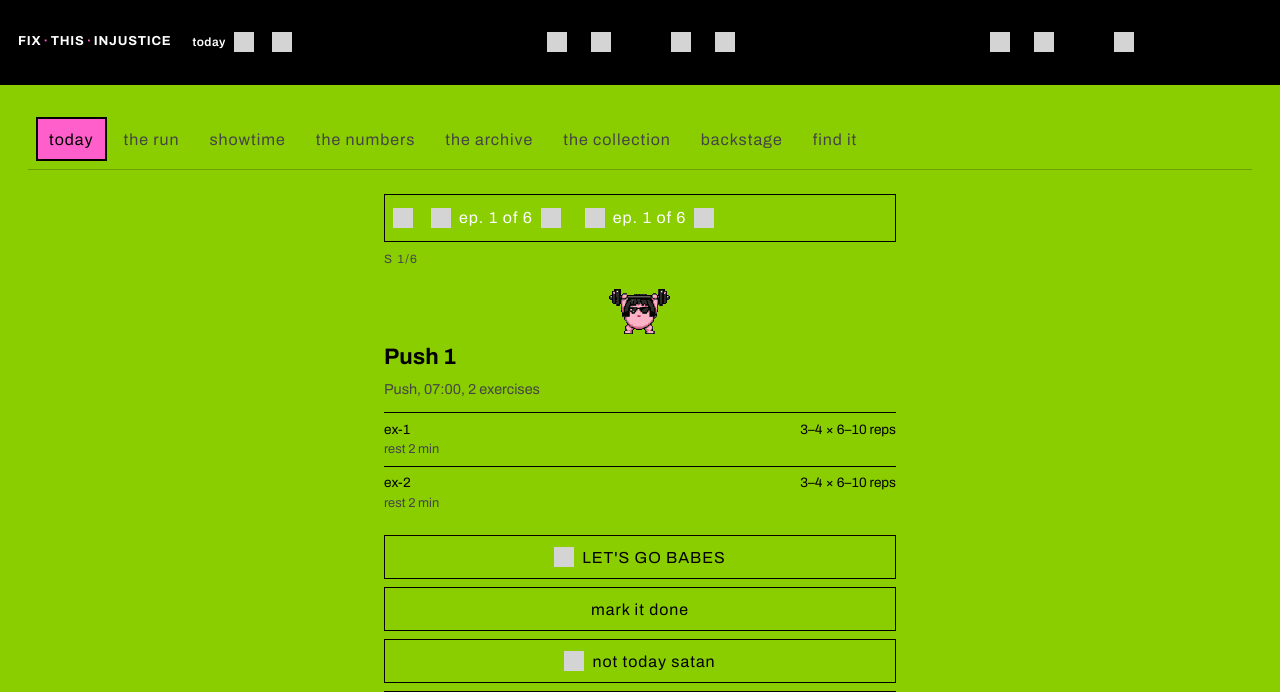
Test: spotlight palette › opens from the nav button, with the query box focused, and closes on Escape
Click the button "find it": (835, 139) x1=800 y1=117 x2=870 y2=161
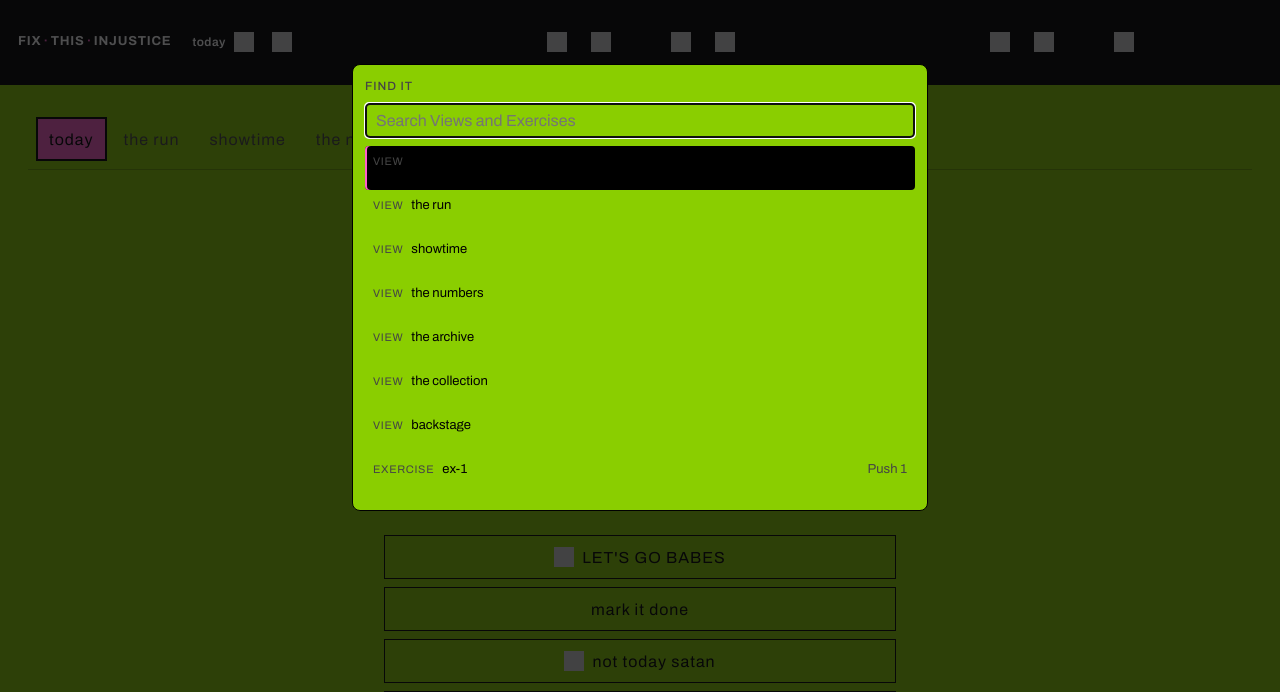
Press Escape in the dropdown, box x1=365 y1=103 x2=915 y2=138
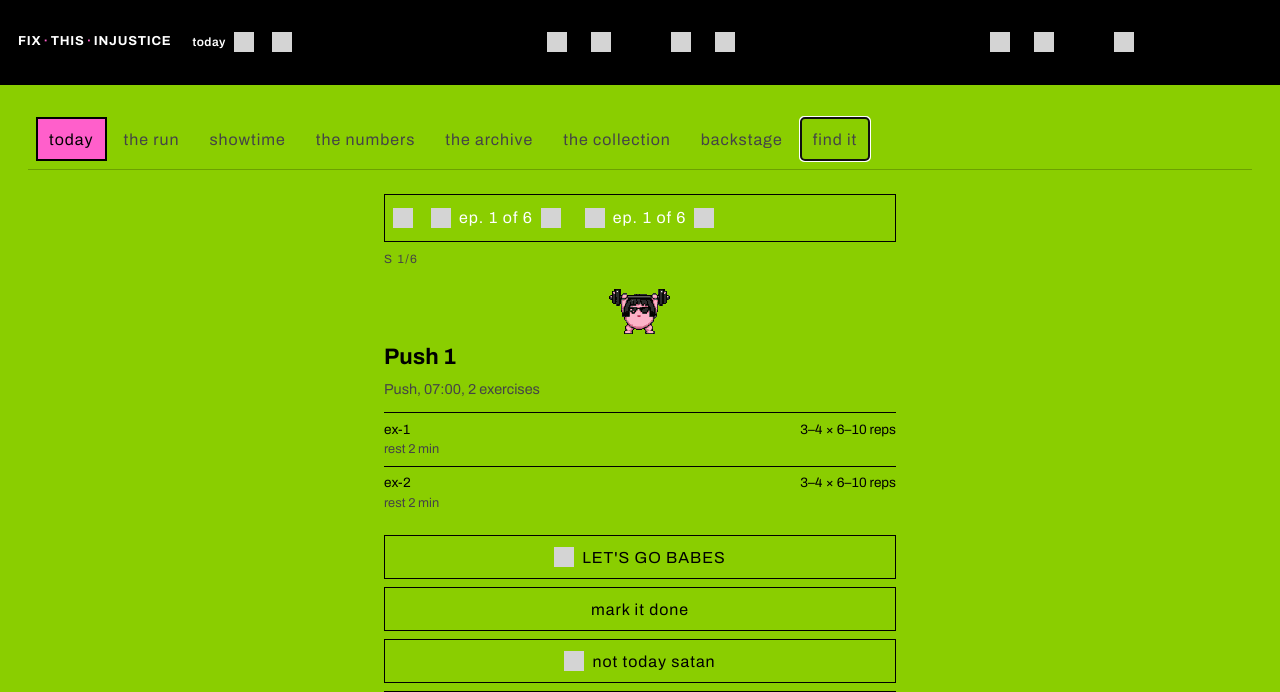
Check: the dropdown is gone
